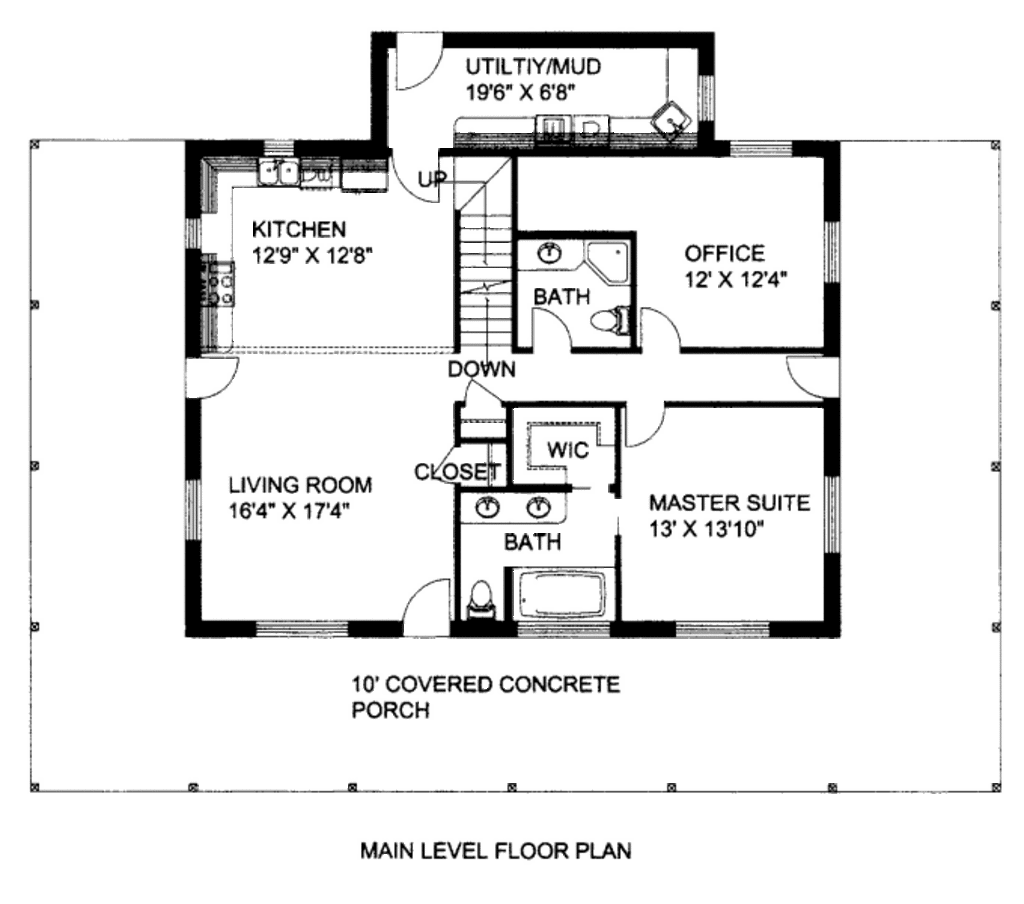door: (383, 145, 439, 212), (183, 349, 248, 406), (400, 571, 454, 635), (394, 27, 447, 92), (786, 350, 850, 399), (616, 396, 671, 453), (523, 306, 577, 355), (641, 307, 683, 350)
large_sink: (466, 580, 511, 624), (587, 303, 637, 341)
sink: (648, 100, 707, 150)
small_sink: (468, 485, 568, 523), (526, 238, 580, 275)
stairs: (450, 146, 522, 371)
tub: (522, 564, 616, 635)
twin_sink: (255, 153, 301, 193)
window: (250, 609, 351, 639), (673, 620, 779, 638), (177, 475, 207, 537), (723, 134, 790, 160), (822, 475, 843, 555), (823, 221, 847, 288), (183, 206, 202, 250)
